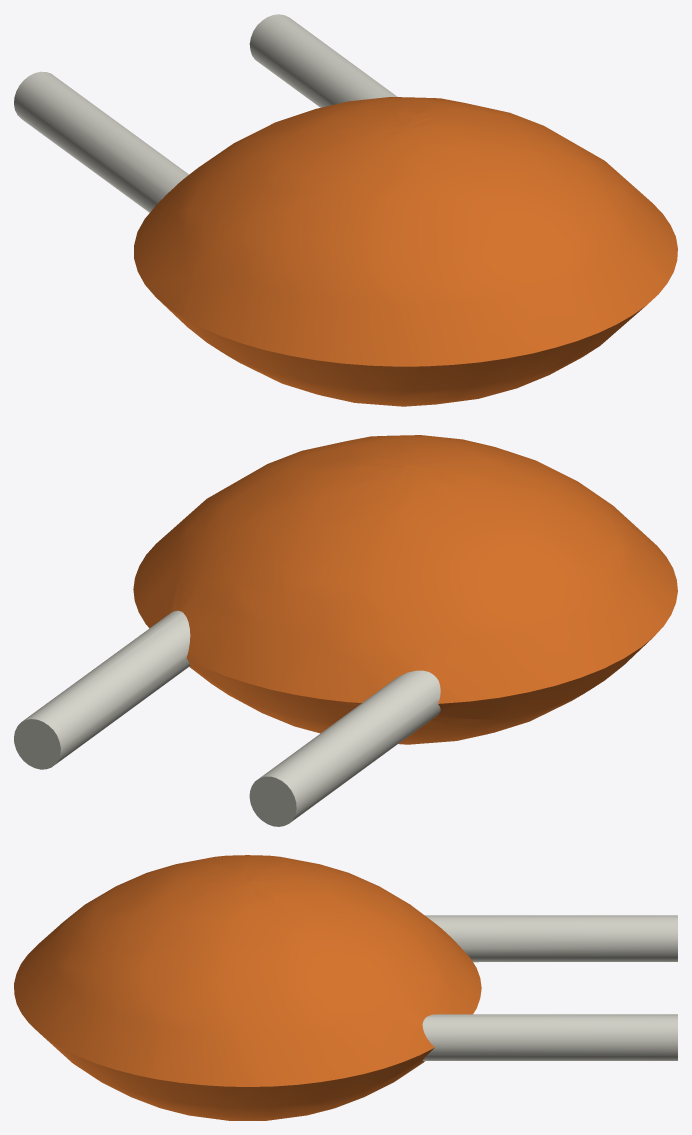
Rendered from c-disc-d5.0-w2.5-p2.50.glb.
The picture shows the model from 3 angles, top to bottom: view 1: azimuth 30°, elevation 25°; view 2: azimuth 150°, elevation 25°; view 3: azimuth 270°, elevation 25°; orthographic projection. The views are drawn at different scales.
Parts seen in each view (by area): view 1: PLASTIC-ORANGE-01, PIN-01; view 2: PLASTIC-ORANGE-01, PIN-01; view 3: PLASTIC-ORANGE-01, PIN-01.
Part boxes in pixels (left/top/right/bottom): PLASTIC-ORANGE-01: left=134, top=97, right=677, bottom=406; PIN-01: left=14, top=14, right=397, bottom=212; PLASTIC-ORANGE-01: left=133, top=435, right=677, bottom=744; PIN-01: left=14, top=610, right=440, bottom=826; PLASTIC-ORANGE-01: left=14, top=855, right=481, bottom=1120; PIN-01: left=422, top=915, right=677, bottom=1060.
Bounding box in the file's own units: 5 × 2.5 × 7.1.
